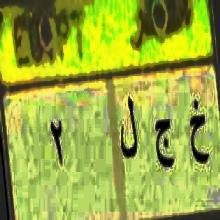2: (48, 115, 66, 177)
jeem: (153, 113, 176, 174)
khaa: (188, 92, 209, 175)
laam: (117, 94, 139, 160)
